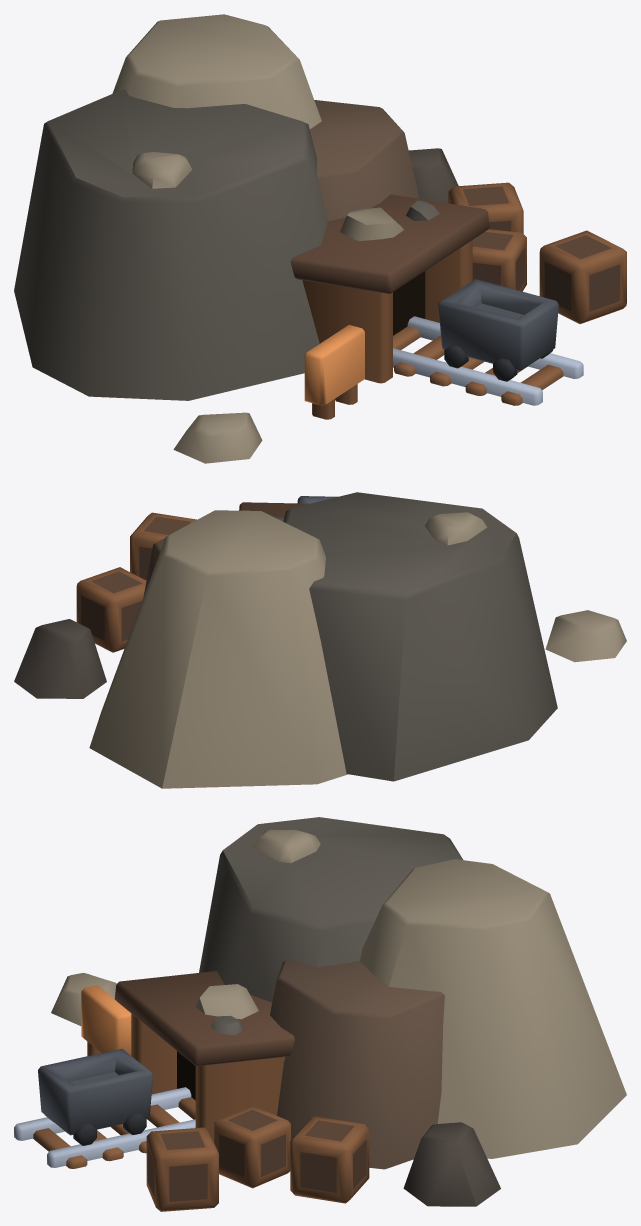
Rendered from Mine.fbx.
3 views of the same model, one above another, from view 1: azimuth 30°, elevation 25°; view 2: azimuth 150°, elevation 25°; view 3: azimuth 270°, elevation 25° (orthographic). The views are drawn at different scales.
Visible parts, largest first — view 1: Cone.038, Cone.036, Cube.1054, Cone.037, Cube.1059, Cube.1055, Cube.1531, Cube.1061, Cube.1057, Cone.042, Cube.1060, Cube.1058 (+5 smaller); view 2: Cone.038, Cone.036, Cone.039, Cube.1532, Cone.042, Cube.1531, Cube.1054; view 3: Cone.036, Cone.038, Cone.037, Cube.1054, Cube.1059, Cube.1055, Cone.039, Cube.1532, Cube.1531, Cube.1060, Cube.1057, Cube.1061 (+5 smaller).
Boxes of the visible parts, x1,y1,x2,y2 form: Cone.038: (14, 89, 327, 400); Cone.036: (112, 14, 321, 128); Cube.1054: (290, 194, 489, 293); Cone.037: (310, 100, 419, 221); Cube.1059: (438, 279, 558, 370); Cube.1055: (302, 240, 472, 383); Cube.1531: (539, 230, 626, 323); Cube.1061: (304, 325, 364, 419); Cube.1057: (393, 316, 583, 405); Cone.042: (173, 412, 262, 463); Cube.1060: (472, 229, 526, 291); Cube.1058: (393, 326, 563, 405); Cone.038: (283, 492, 557, 781); Cone.036: (89, 510, 347, 788); Cone.039: (14, 619, 106, 698); Cube.1532: (76, 567, 146, 652); Cone.042: (545, 610, 626, 662); Cube.1531: (130, 512, 196, 580); Cube.1054: (239, 502, 309, 517); Cone.036: (360, 859, 626, 1158); Cone.038: (199, 817, 463, 1002); Cone.037: (270, 959, 444, 1169); Cube.1054: (114, 971, 294, 1066); Cube.1059: (38, 1048, 153, 1135); Cube.1055: (131, 1013, 285, 1141); Cone.039: (403, 1122, 500, 1206); Cube.1532: (290, 1116, 369, 1203); Cube.1531: (146, 1127, 218, 1211); Cube.1060: (214, 1105, 290, 1188); Cube.1057: (14, 1087, 195, 1167); Cube.1061: (81, 985, 131, 1056).
Bounding box in the file's own units: 167 × 66.01 × 183.
